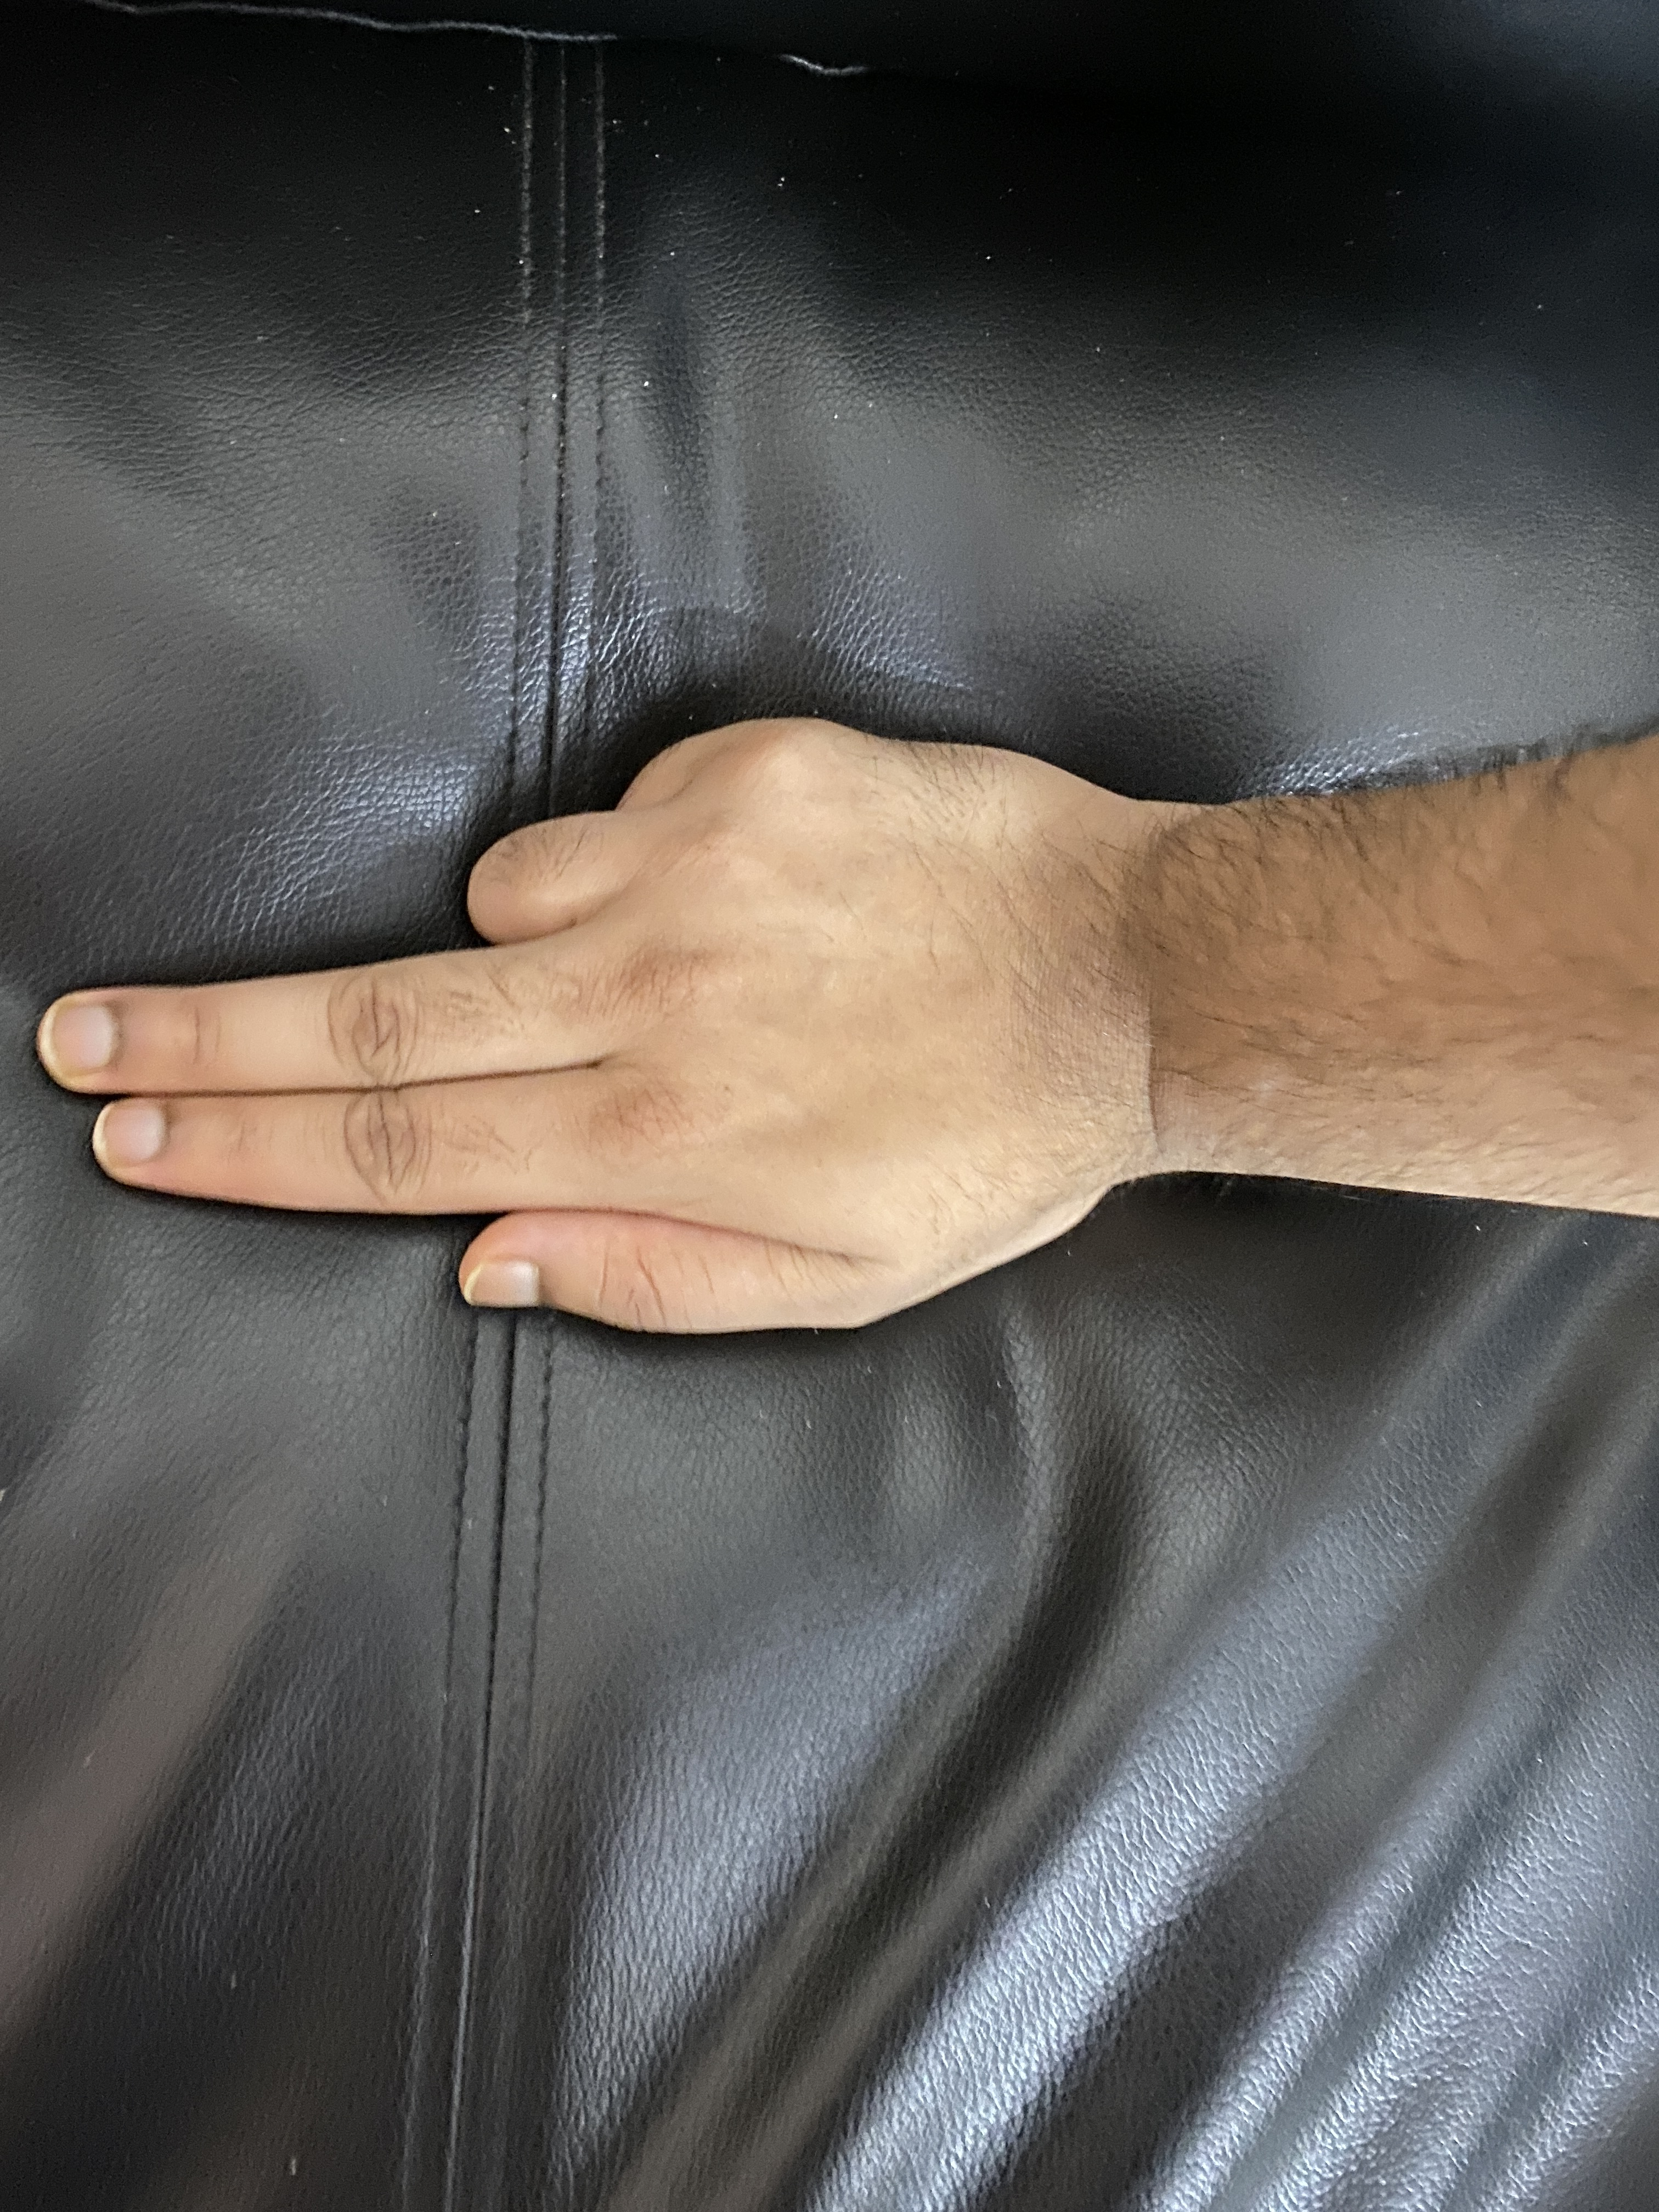right: (35, 383, 1659, 1677)
